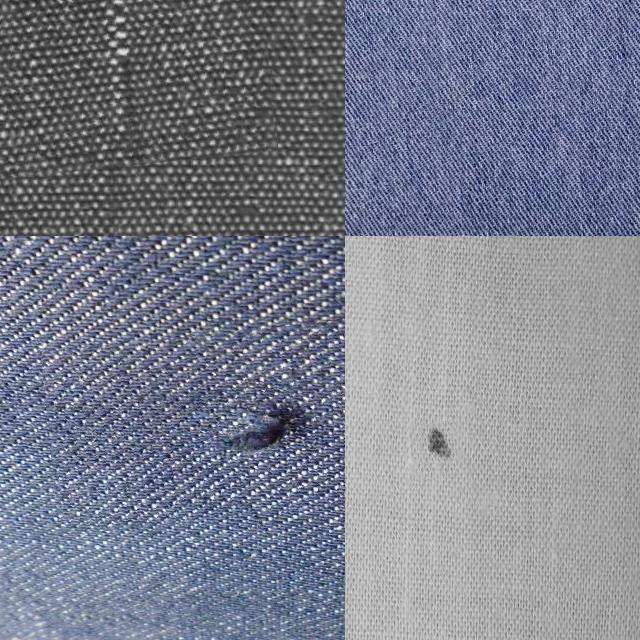Thread_other: (408, 422, 460, 480)
stains: (44, 311, 345, 521)
